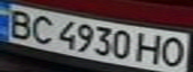0: (112, 28, 133, 61)
3: (90, 25, 115, 57)
4: (51, 19, 78, 51)
9: (72, 21, 96, 54)
B: (3, 7, 39, 39)
C: (24, 12, 60, 44)
H: (136, 32, 166, 65)
O: (157, 34, 190, 69)
